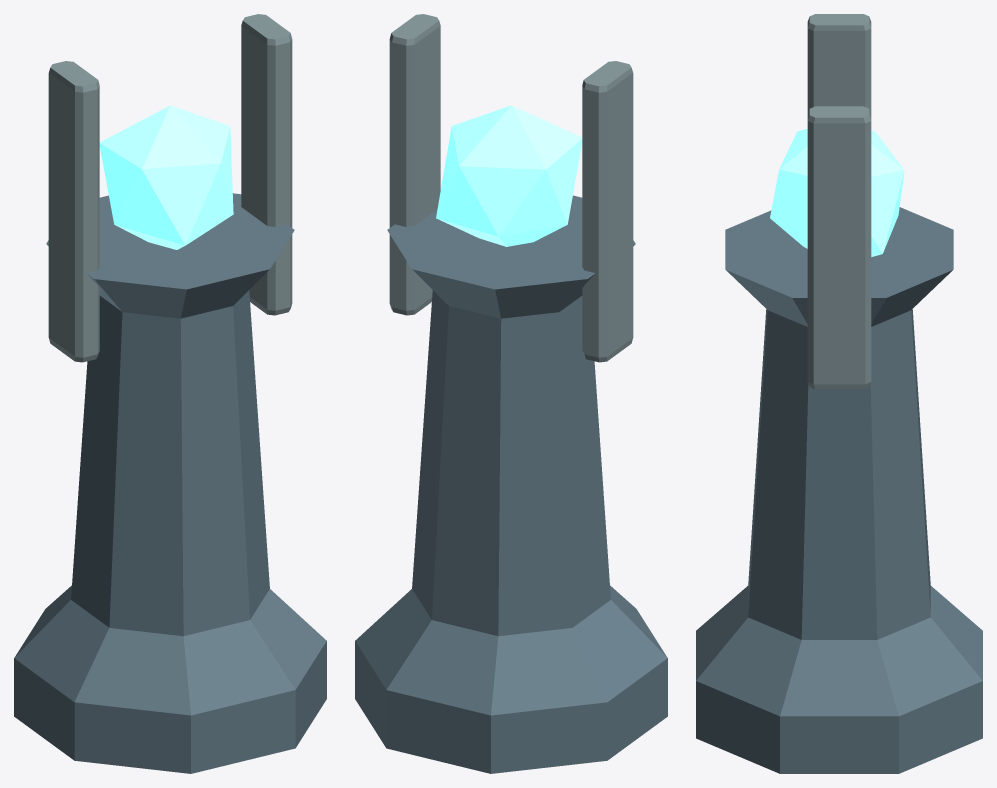
Rendered from SM_ELY_PROP_002_Relay.glb.
3 views of the same model, side by side, from view 1: azimuth 30°, elevation 25°; view 2: azimuth 150°, elevation 25°; view 3: azimuth 270°, elevation 25° (orthographic).
Visible parts, largest first — view 1: SM_ELY_PROP_002_Relay; view 2: SM_ELY_PROP_002_Relay; view 3: SM_ELY_PROP_002_Relay.
Boxes of the visible parts, <box> form: SM_ELY_PROP_002_Relay: <box>14,14,326,773</box>; SM_ELY_PROP_002_Relay: <box>355,14,667,773</box>; SM_ELY_PROP_002_Relay: <box>696,14,982,773</box>.
Size of the model in its own units: 0.813 by 2.03 by 0.813.
